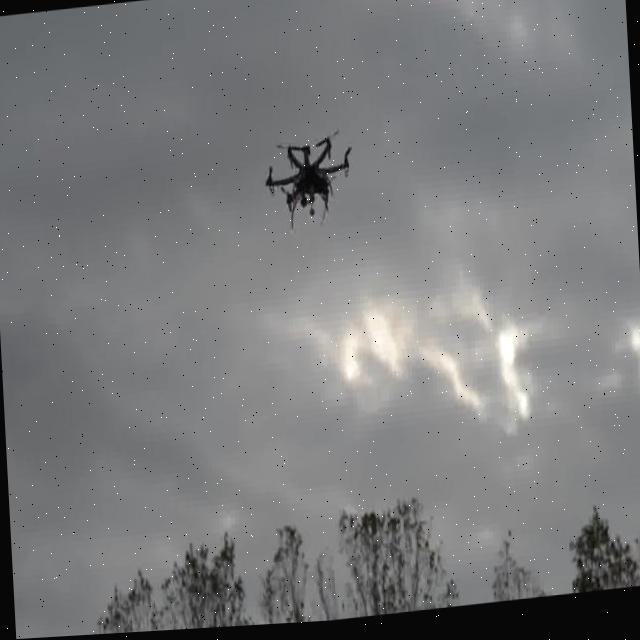drone: (260, 128, 354, 239)
